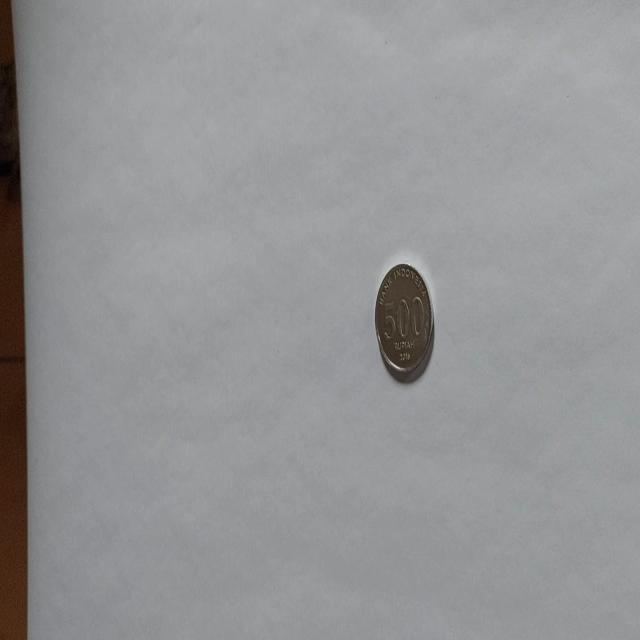lima ratus rupiah: (373, 261, 435, 384)
